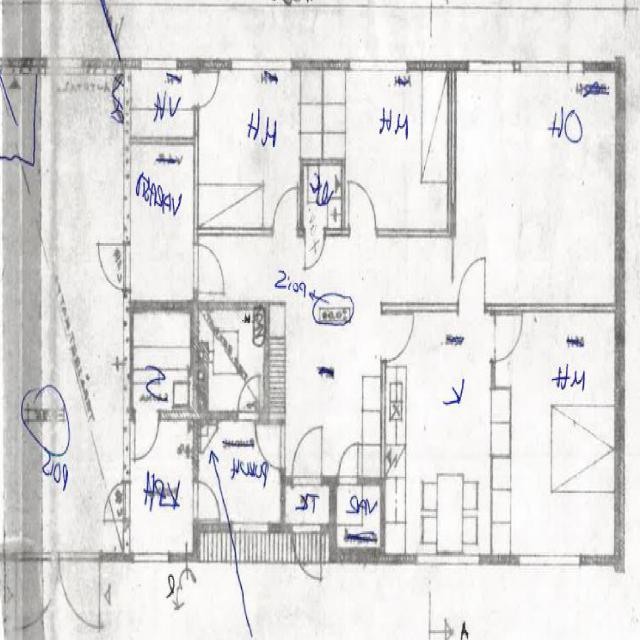door: (58, 554, 101, 635), (16, 554, 58, 635), (292, 426, 321, 486), (293, 524, 321, 580), (194, 245, 226, 293), (97, 244, 130, 290), (348, 182, 376, 236), (381, 314, 413, 361), (458, 257, 485, 312), (254, 424, 286, 469), (490, 315, 522, 360), (135, 410, 159, 461), (274, 188, 298, 236), (102, 482, 130, 520), (193, 482, 220, 519), (238, 375, 259, 419), (194, 72, 219, 107), (339, 442, 358, 486), (305, 229, 325, 270)
